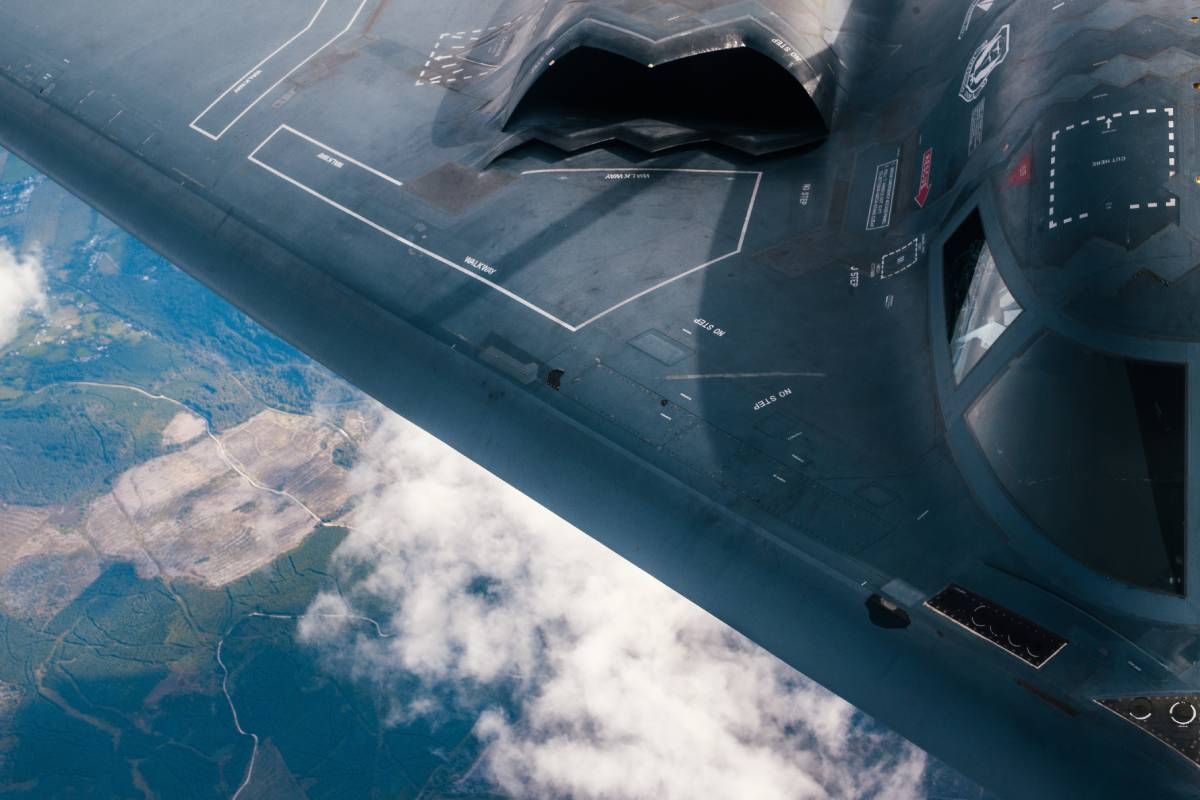B2: (1, 1, 1200, 800)
